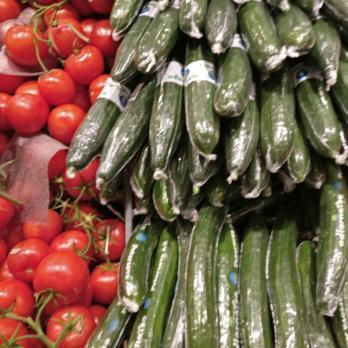Cucumber: (123, 2, 348, 348)
Tomato: (1, 205, 83, 348), (0, 1, 102, 91), (2, 93, 64, 211), (79, 213, 120, 302)
